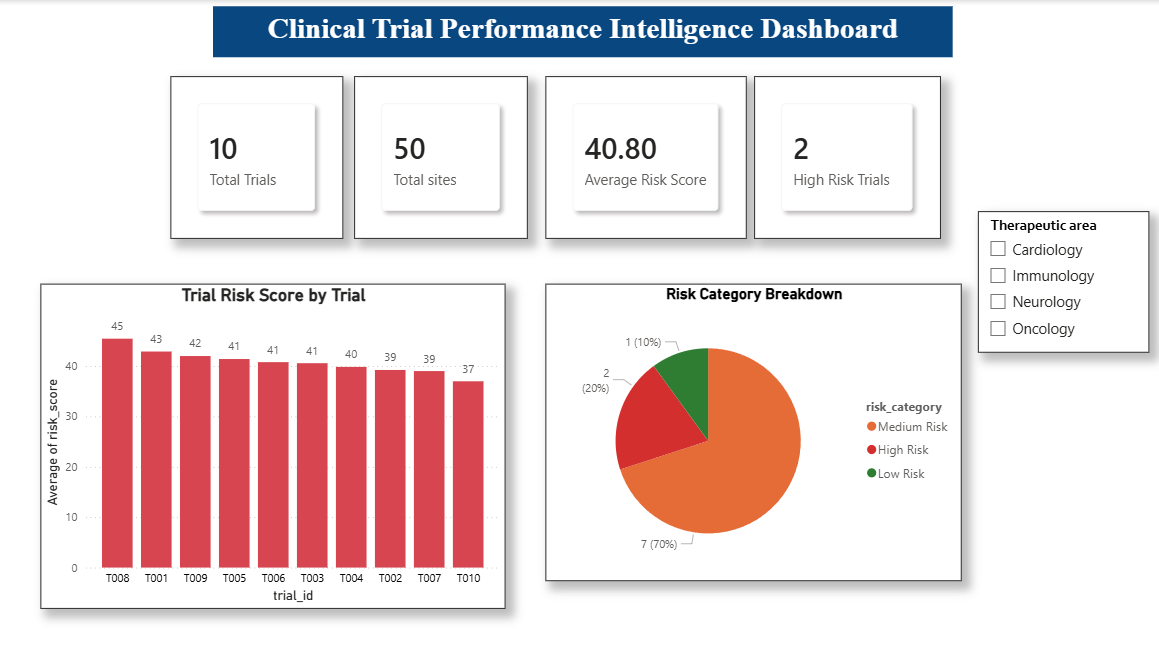

The dashboard page shown, as its layout file describes it:
{"tool":"powerbi","page":{"name":"Executive Overview","canvas":[1280,720],"ordinal":0},"visuals":[{"type":"textbox","box":[10,0,280,280],"z":0},{"type":"cardVisual","fields":{"Data":["Count(trials.trial_id)"]},"box":[194.9,83.7,189.4,178.4],"z":1000},{"type":"cardVisual","fields":{"Data":["Count(sites.site_id)"]},"box":[396.6,83.7,190.7,178.4],"z":3000},{"type":"cardVisual","fields":{"Data":["Avg(trial_risk_scores.risk_score)"]},"box":[606.5,83.7,220.9,178.4],"z":4000},{"type":"cardVisual","fields":{"Data":["Count(trial_risk_scores.trial_id)"]},"box":[835.7,83.7,204.5,178.4],"z":5000},{"type":"clusteredColumnChart","title":"Trial Risk Score by Trial","fields":{"Category":["trial_risk_scores.trial_id"],"Y":["Avg(trial_risk_scores.risk_score)"]},"box":[52.1,311.5,510.5,356.8],"z":6000},{"type":"pieChart","title":"Risk Category Breakdown","fields":{"Category":["trial_risk_scores.risk_category"],"Y":["Count(trial_risk_scores.trial_id)"]},"box":[606.5,311.5,456.9,326.6],"z":7000},{"type":"slicer","fields":{"Values":["trials.therapeutic_area"]},"box":[1081.3,231.9,188,155.1],"z":8000},{"type":"textbox","box":[241.5,6.9,812.4,56.3],"z":9001}]}

Visuals, with their boxes in screenshot pixels (x1, y1, x2, y2), scaled from the page's 1280x720 canvas onto the 1159x656 screenshot:
textbox: pyautogui.locateOnScreen(9, 0, 263, 255)
cardVisual - Count(trials.trial_id): pyautogui.locateOnScreen(176, 76, 348, 239)
cardVisual - Count(sites.site_id): pyautogui.locateOnScreen(359, 76, 532, 239)
cardVisual - Avg(trial_risk_scores.risk_score): pyautogui.locateOnScreen(549, 76, 749, 239)
cardVisual - Count(trial_risk_scores.trial_id): pyautogui.locateOnScreen(757, 76, 942, 239)
"Trial Risk Score by Trial" clusteredColumnChart: pyautogui.locateOnScreen(47, 284, 509, 609)
"Risk Category Breakdown" pieChart: pyautogui.locateOnScreen(549, 284, 963, 581)
slicer - trials.therapeutic_area: pyautogui.locateOnScreen(979, 211, 1149, 353)
textbox: pyautogui.locateOnScreen(219, 6, 954, 58)
